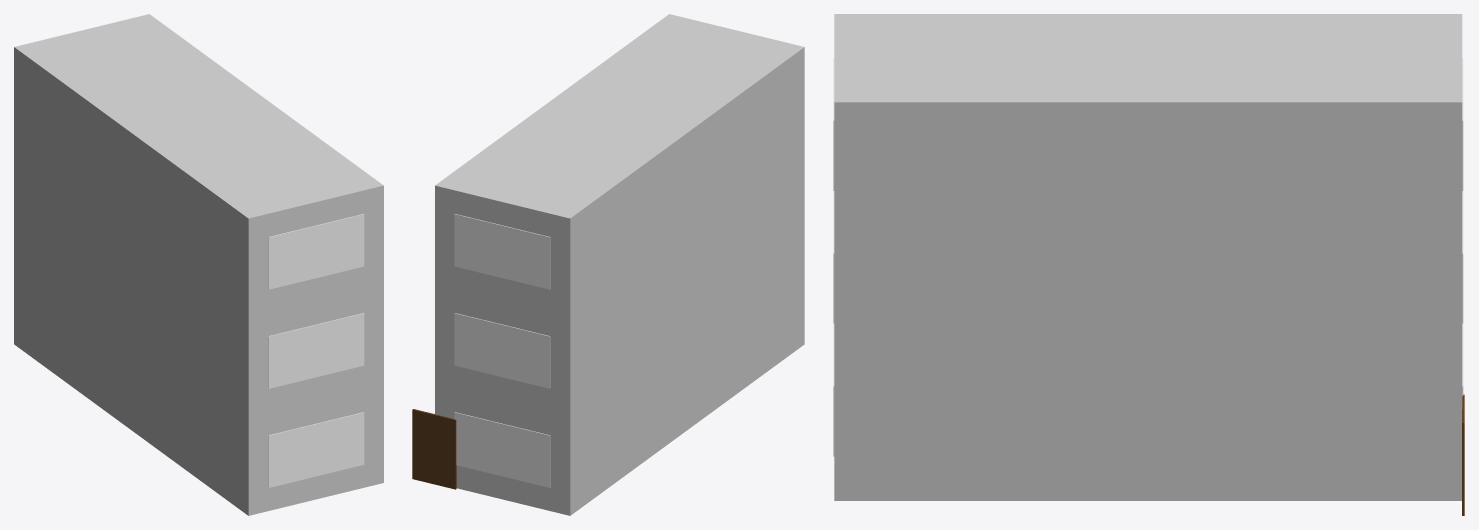
Rendered from building-1.gltf.
3 renders of one model, left to right at view 1: azimuth 30°, elevation 25°; view 2: azimuth 150°, elevation 25°; view 3: azimuth 270°, elevation 25°, orthographic. The views are drawn at different scales.
Bounding box in the file's own units: 5.8 × 10.53 × 15.08.
